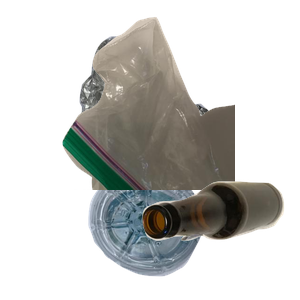glass: (140, 179, 300, 300)
metal: (68, 34, 300, 214)
plastic: (86, 163, 282, 300)
trash: (60, 14, 300, 194)
